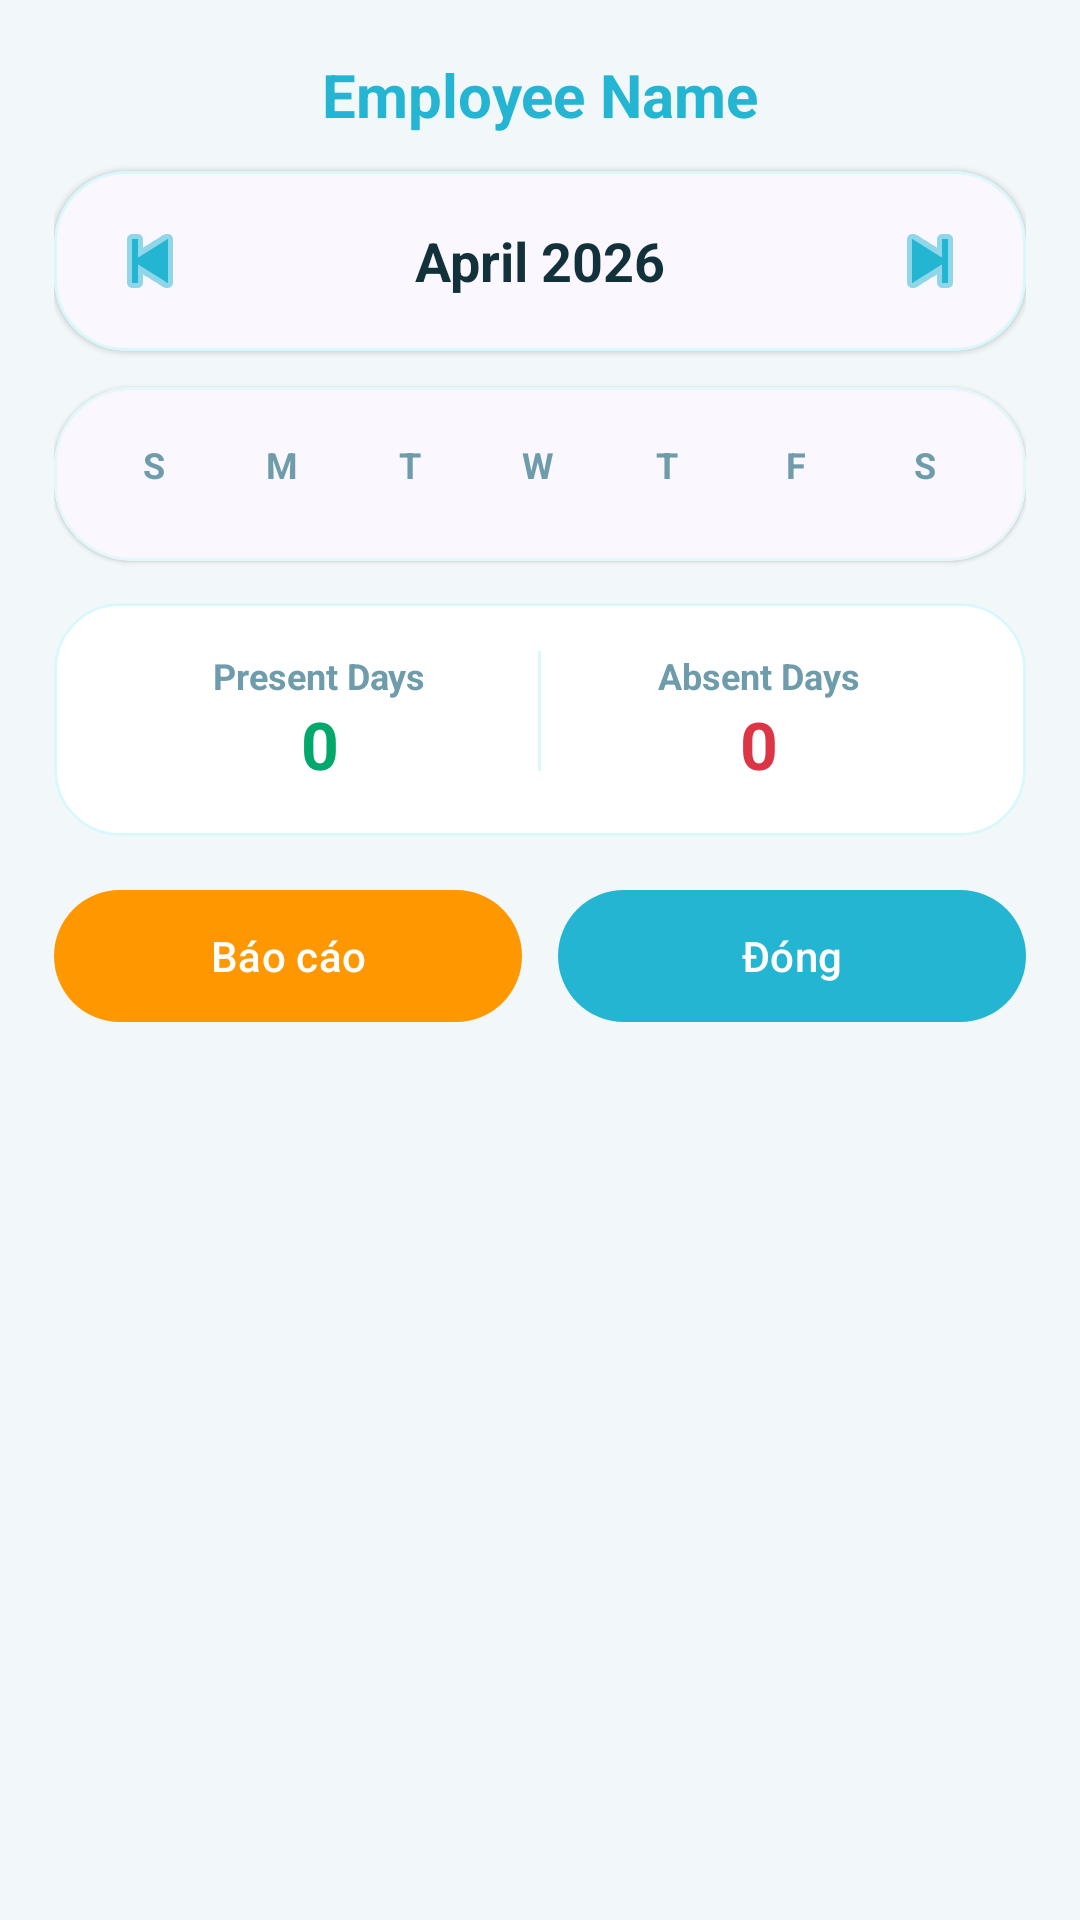

Named icons in this screenshot (1080 x 1920) and their bounding boxes, (x1, y1, x2, y2):
next: (907, 234, 953, 288)
previous: (127, 234, 173, 288)
